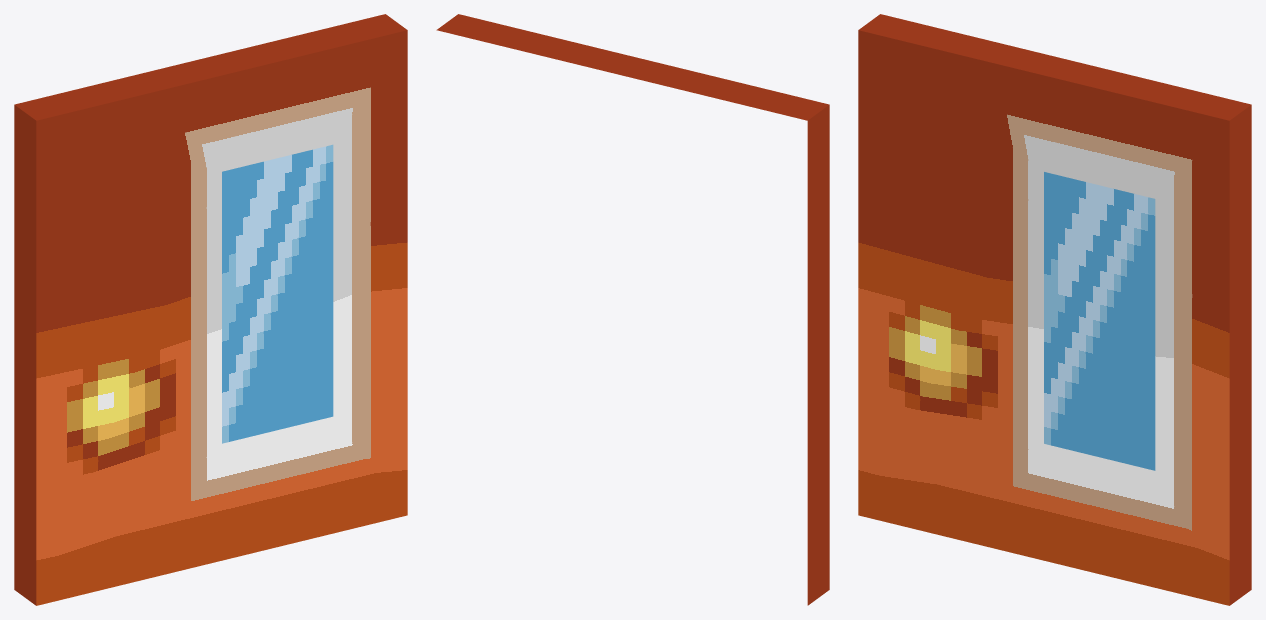
3 views of the same model, side by side, from view 1: azimuth 30°, elevation 25°; view 2: azimuth 150°, elevation 25°; view 3: azimuth 330°, elevation 25° (orthographic).
Visible parts, largest first — view 1: wk_door3; view 2: wk_door3; view 3: wk_door3.
Boxes of the visible parts, bbox=[...] form: wk_door3: bbox=[14, 14, 407, 605]; wk_door3: bbox=[436, 14, 829, 605]; wk_door3: bbox=[858, 14, 1251, 605].
Bounding box in the file's own units: 1.25 × 1.56 × 0.1288.
Materials: 2 (2 with a texture image).
